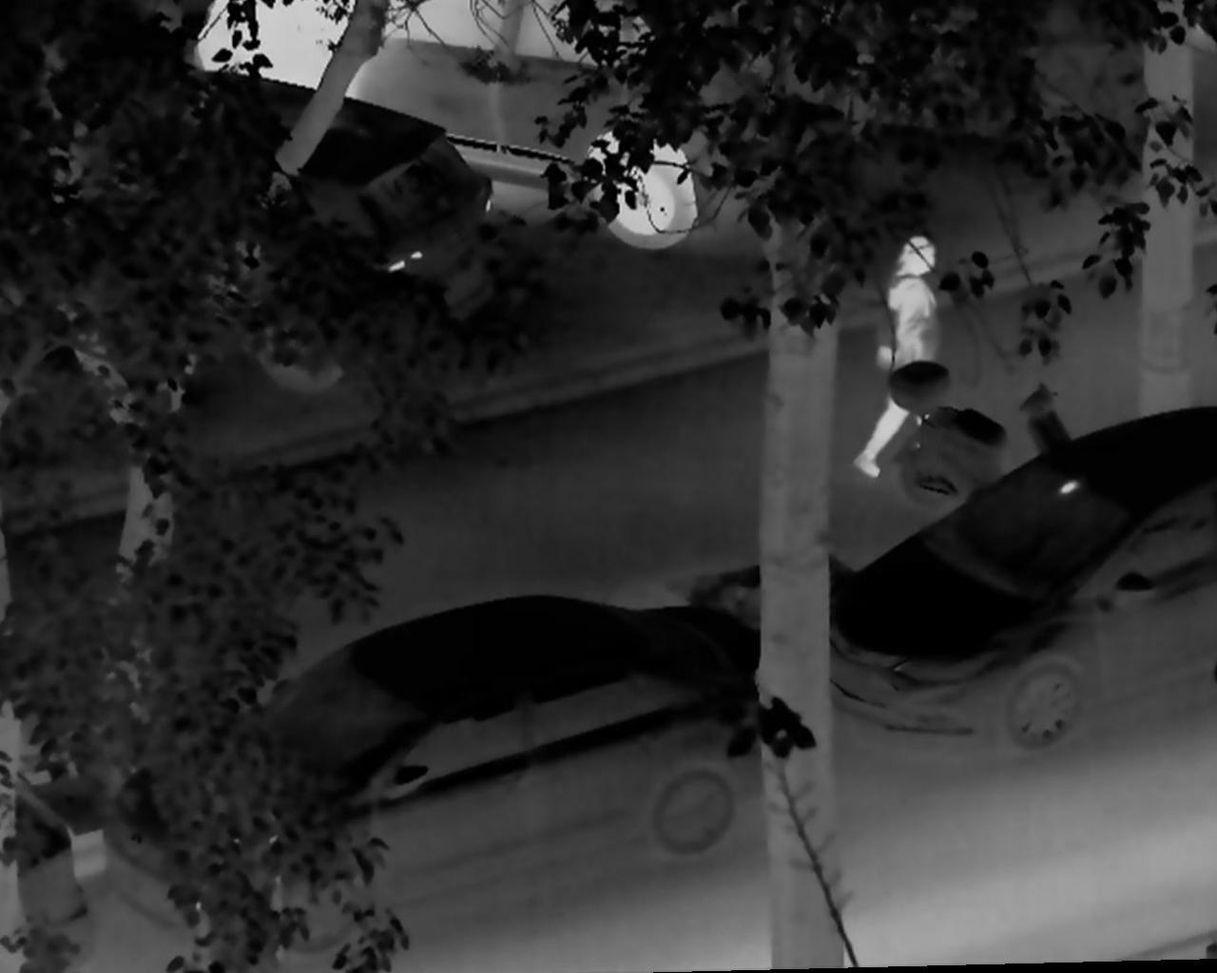person: (852, 235, 947, 481)
